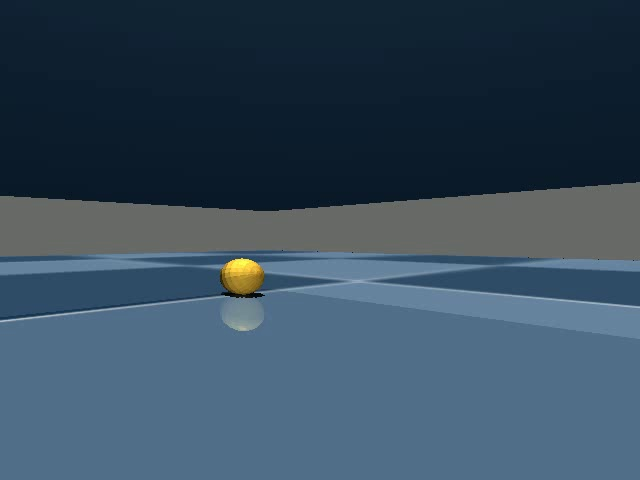lemon: (213, 252, 271, 302)
